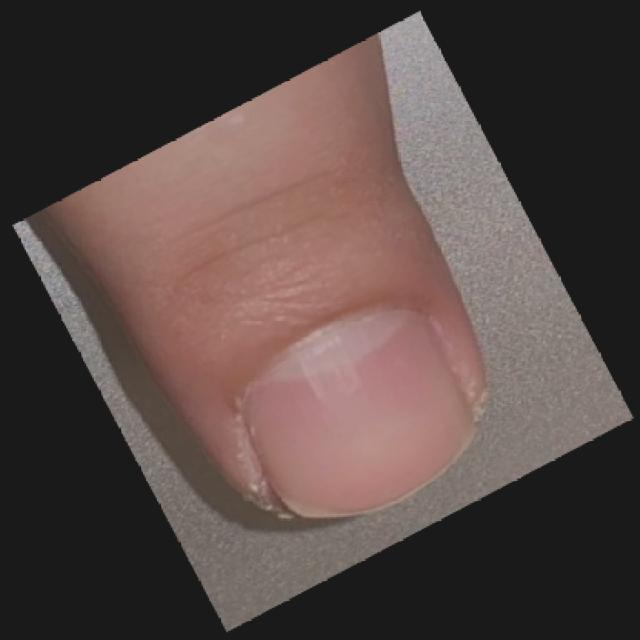Nail: (244, 311, 483, 519)
